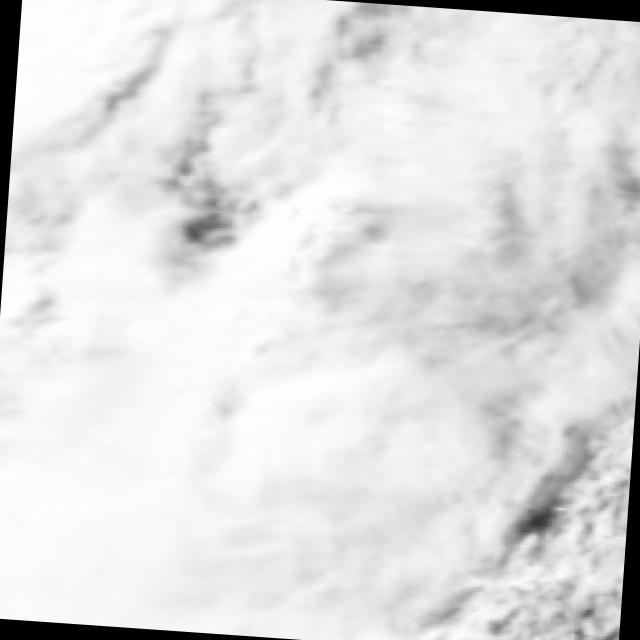CB: (260, 202, 527, 392), (445, 9, 640, 252), (0, 280, 269, 443), (277, 361, 479, 564), (162, 426, 349, 640), (322, 63, 531, 238), (0, 429, 174, 629), (1, 138, 204, 308), (11, 0, 227, 158)
